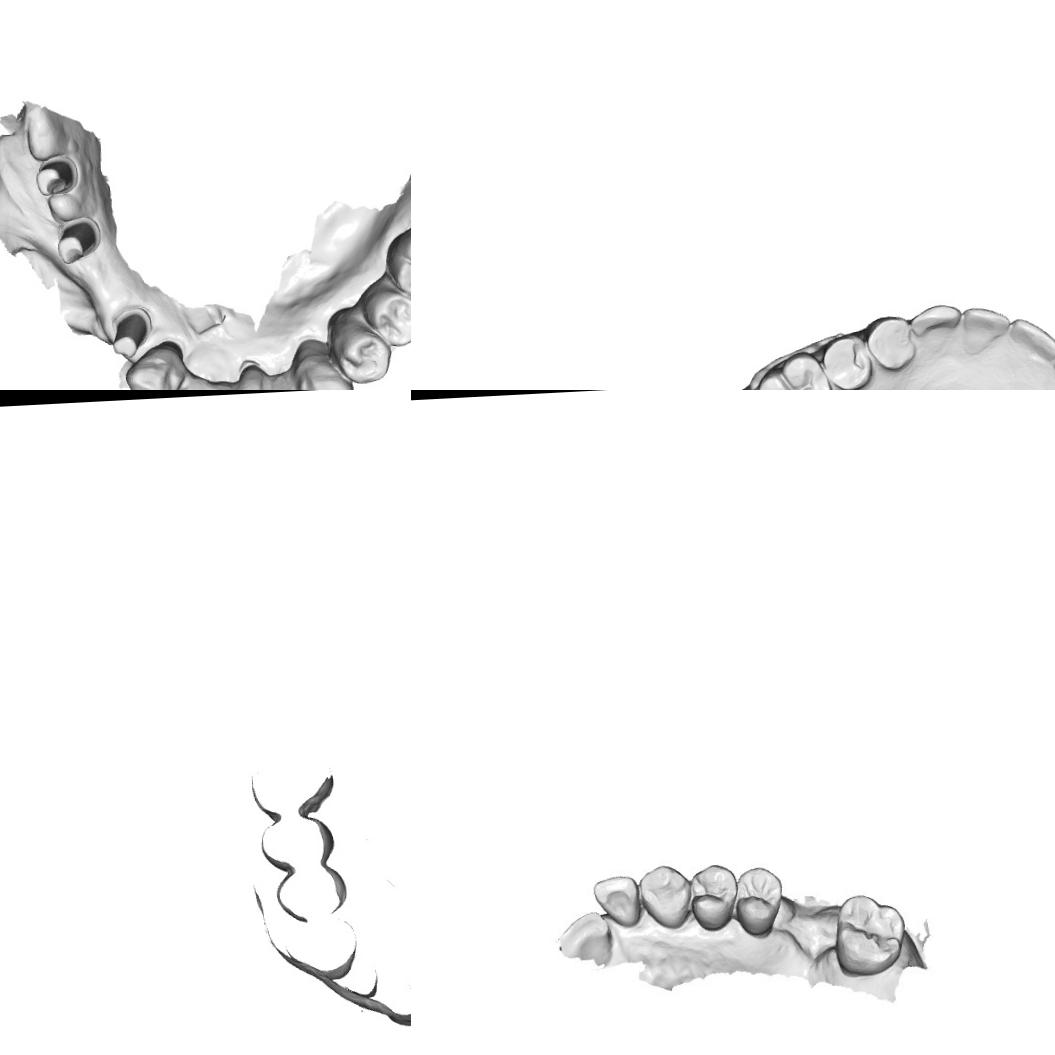abutment: (52, 216, 102, 268), (107, 307, 150, 361), (34, 156, 78, 199)
canine: (637, 856, 696, 932), (123, 343, 184, 390), (912, 304, 960, 346), (297, 358, 356, 390)
incisor: (587, 871, 642, 931), (1009, 315, 1055, 361), (962, 302, 1010, 342)
molar: (828, 889, 906, 977), (752, 348, 833, 390), (382, 226, 411, 306)
premolar: (729, 863, 786, 938), (330, 323, 393, 388), (686, 860, 740, 932), (815, 331, 874, 390), (361, 284, 411, 349), (864, 315, 916, 370)
